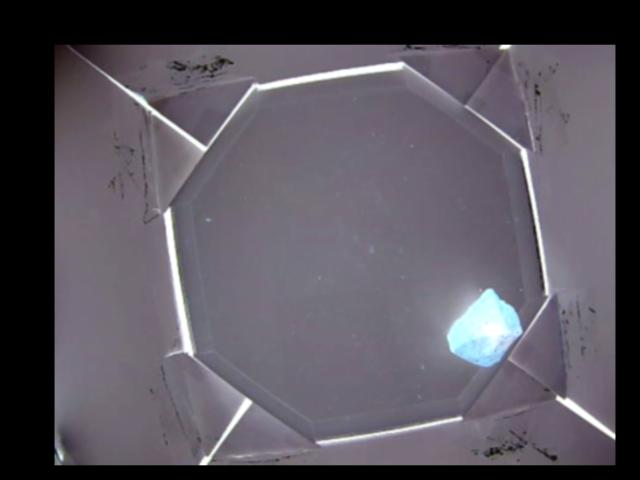Brisk: (446, 289, 521, 364)
